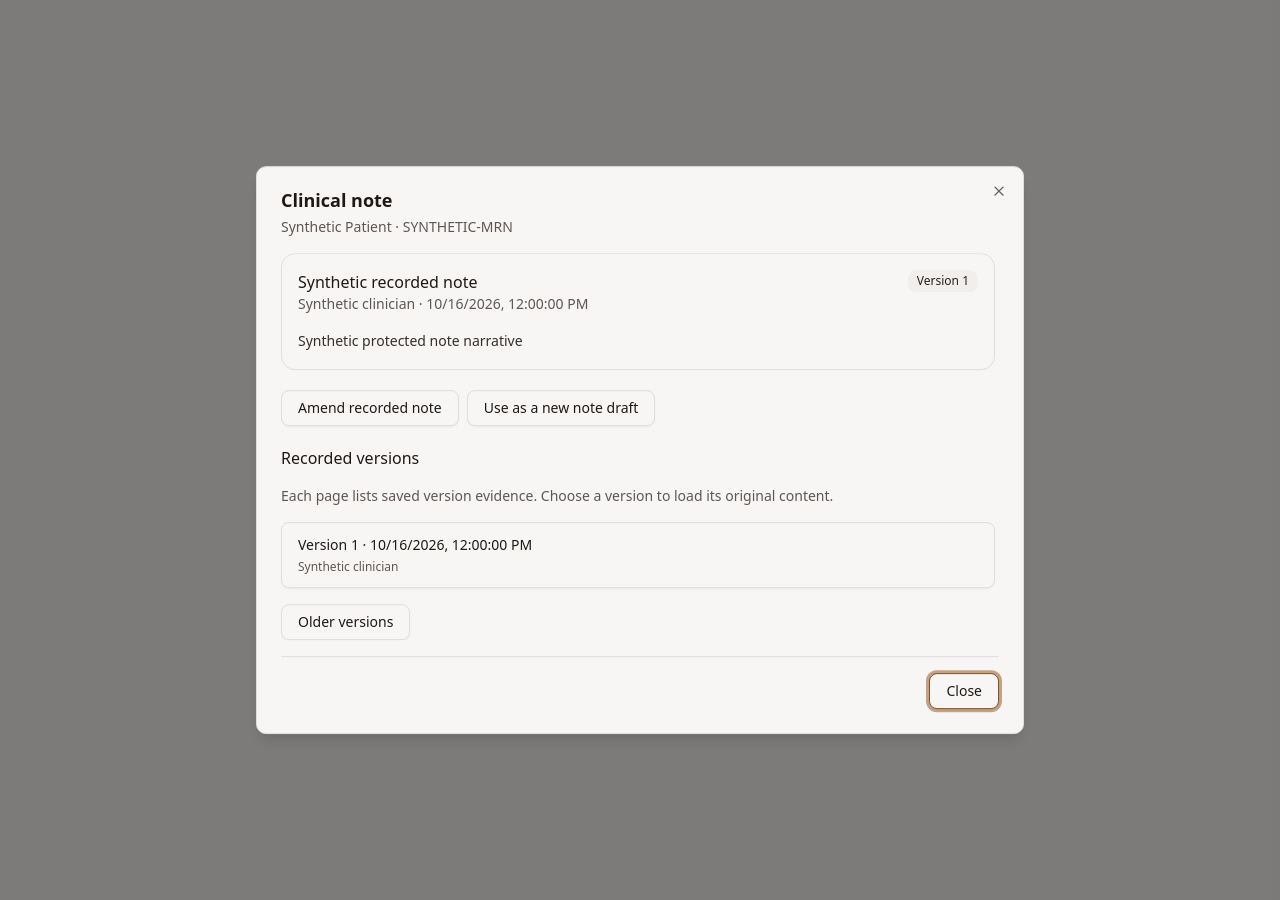
Test: hides current body and actions if an expanded historical version is denied
Expected: the text "Synthetic protected note narrative" is shown, [298, 331, 523, 350]
Click the button "Version 1 · 10/16/2026, 12:00:00 PM Synthetic clinician": (324, 544) [281, 522, 995, 588]
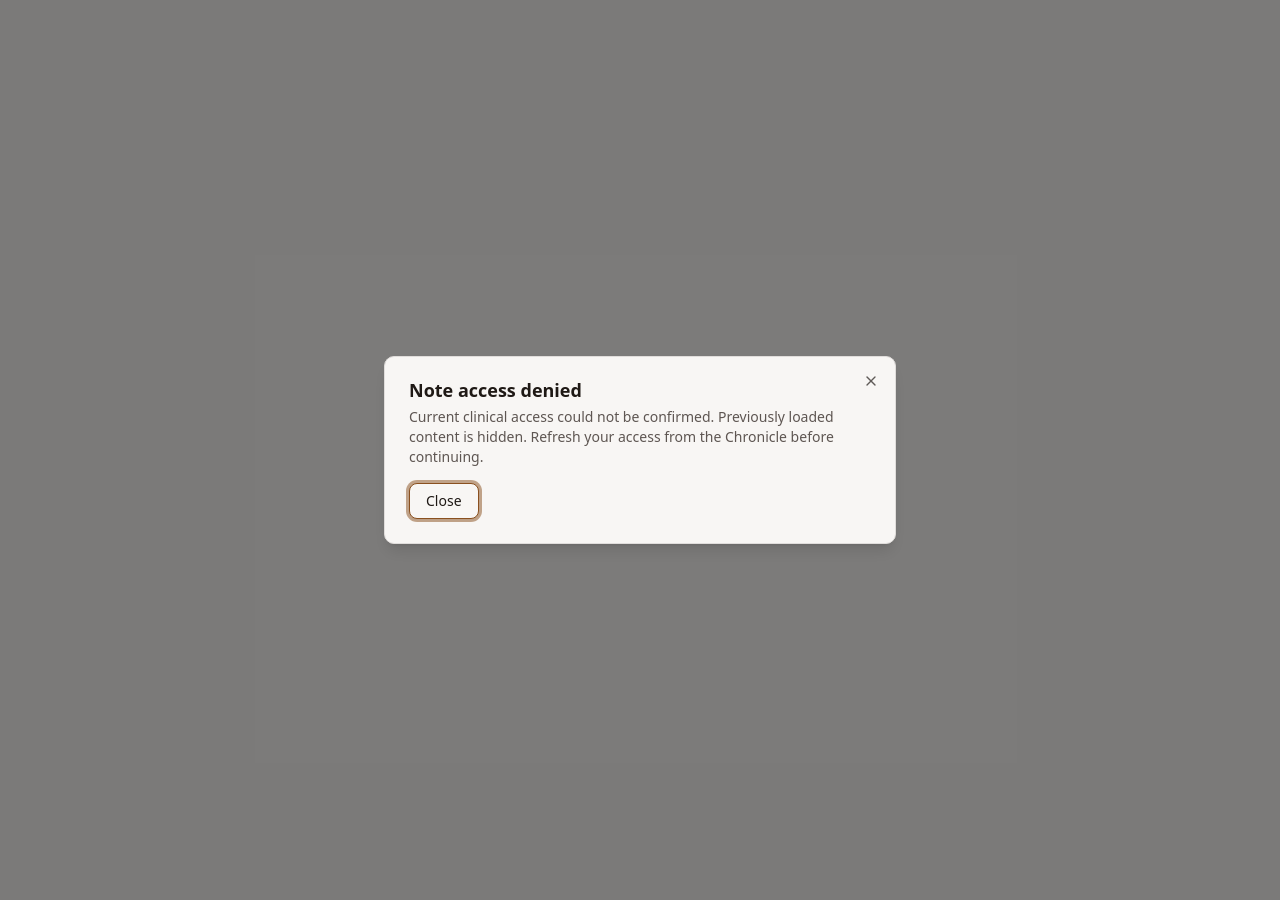
Now the heading "Note access denied" is shown, box [409, 378, 582, 402]
Now the text "Synthetic protected note narrative" is gone
Now the button "Amend recorded note" is gone
